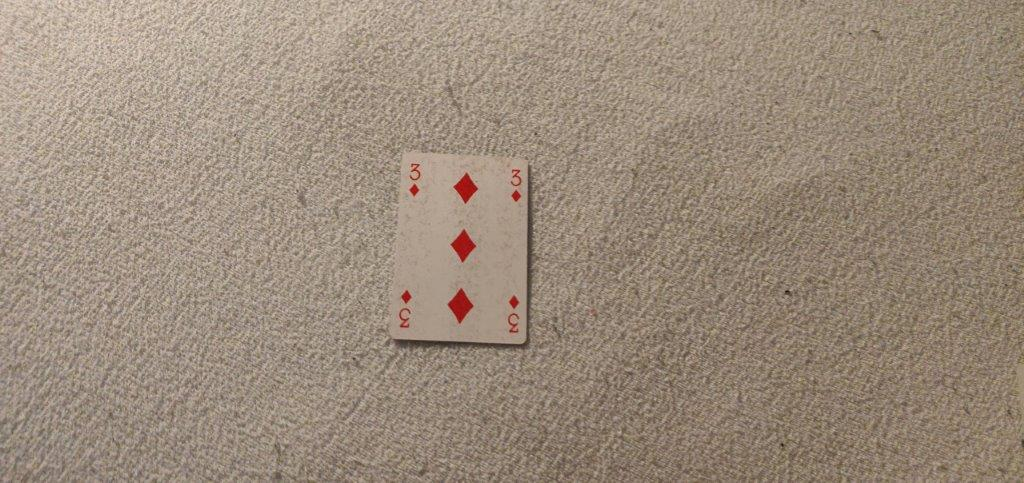3D: (403, 160, 427, 199), (508, 165, 524, 207)
